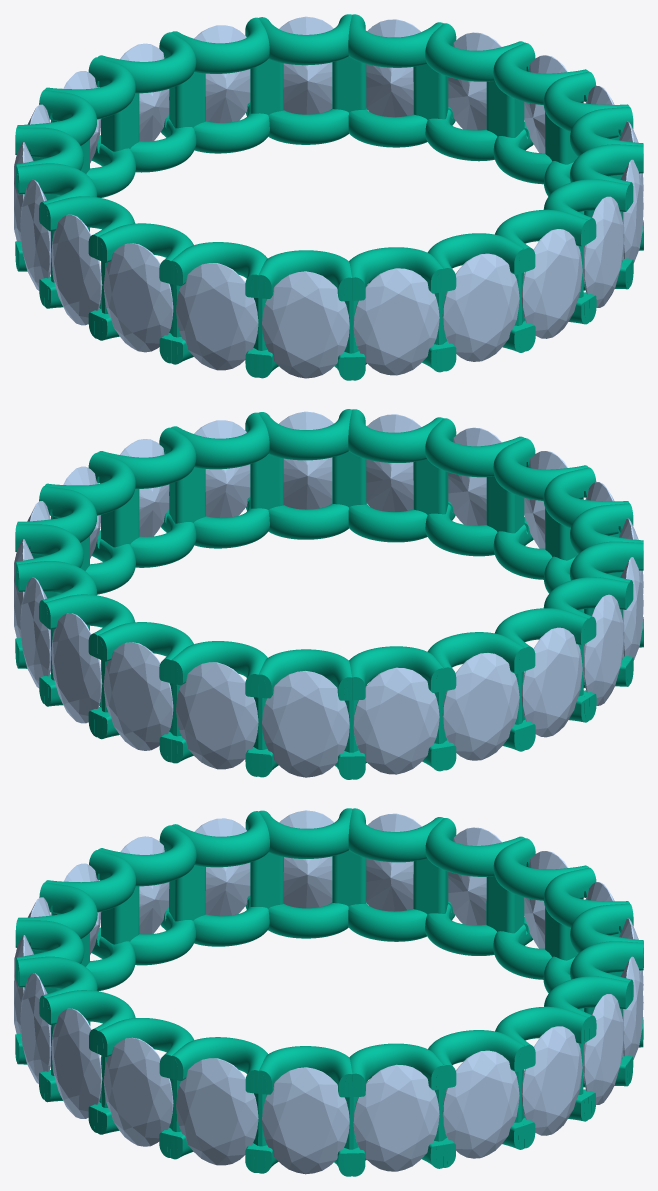
The picture shows the model from 3 angles, top to bottom: view 1: azimuth 30°, elevation 25°; view 2: azimuth 150°, elevation 25°; view 3: azimuth 270°, elevation 25°; orthographic projection.
Parts seen in each view (by area): view 1: OVAL 4 MM(base).3dm, Diamond_Oval (×18); view 2: OVAL 4 MM(base).3dm, Diamond_Oval (×18); view 3: OVAL 4 MM(base).3dm, Diamond_Oval (×18).
Boxes of the visible parts, left/top/right/bottom form: OVAL 4 MM(base).3dm: left=15, top=14, right=643, bottom=380; Diamond_Oval (×18): left=14, top=16, right=643, bottom=378; OVAL 4 MM(base).3dm: left=15, top=409, right=643, bottom=779; Diamond_Oval (×18): left=14, top=411, right=643, bottom=777; OVAL 4 MM(base).3dm: left=15, top=808, right=643, bottom=1176; Diamond_Oval (×18): left=14, top=810, right=643, bottom=1174.
Size of the model in its own units: 2.8 by 0.5431 by 2.8.
